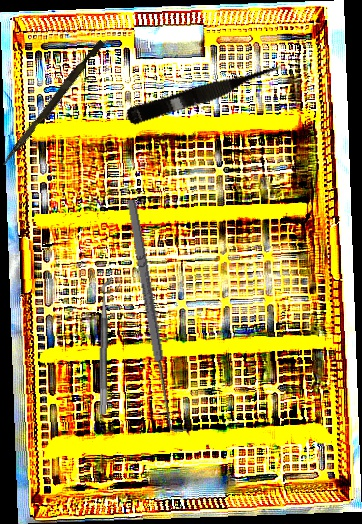Fixation Ring: (98, 281, 121, 415)
Hook Surgical: (123, 197, 188, 435)
Micro Scissor: (124, 57, 290, 130)
Pusher: (1, 37, 105, 170)
